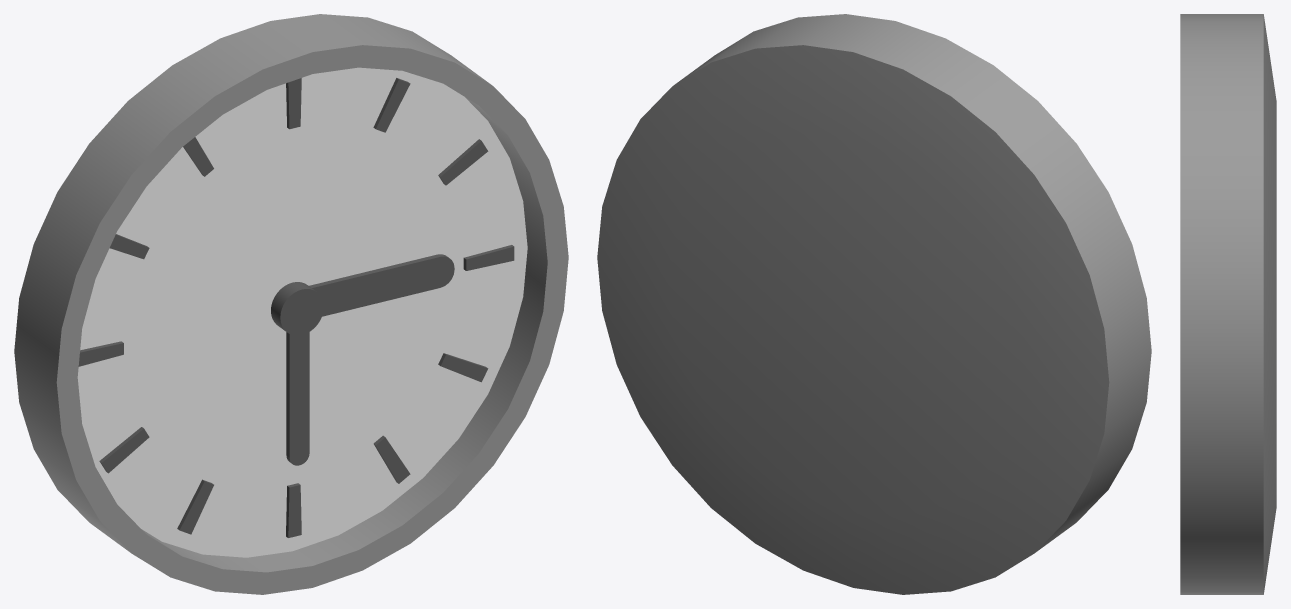
The model's file is three_thirty.gltf.
3 views of the same model, side by side, from view 1: azimuth 30°, elevation 25°; view 2: azimuth 150°, elevation 25°; view 3: azimuth 270°, elevation 25° (orthographic).
Parts seen in each view (by area): view 1: Circle.2450, Circle.2451, Plane.264, Plane.265; view 2: Circle.2450; view 3: Circle.2450.
Part boxes in pixels (x1=…): Circle.2450: x1=14, y1=14, x2=568, y2=594; Circle.2451: x1=78, y1=78, x2=514, y2=537; Plane.264: x1=309, y1=254, x2=454, y2=316; Plane.265: x1=286, y1=332, x2=309, y2=465; Circle.2450: x1=597, y1=14, x2=1151, y2=594; Circle.2450: x1=1180, y1=14, x2=1276, y2=594.
Size of the model in its own units: 2.33 by 2.33 by 0.387.
1 material, 1 textured.
